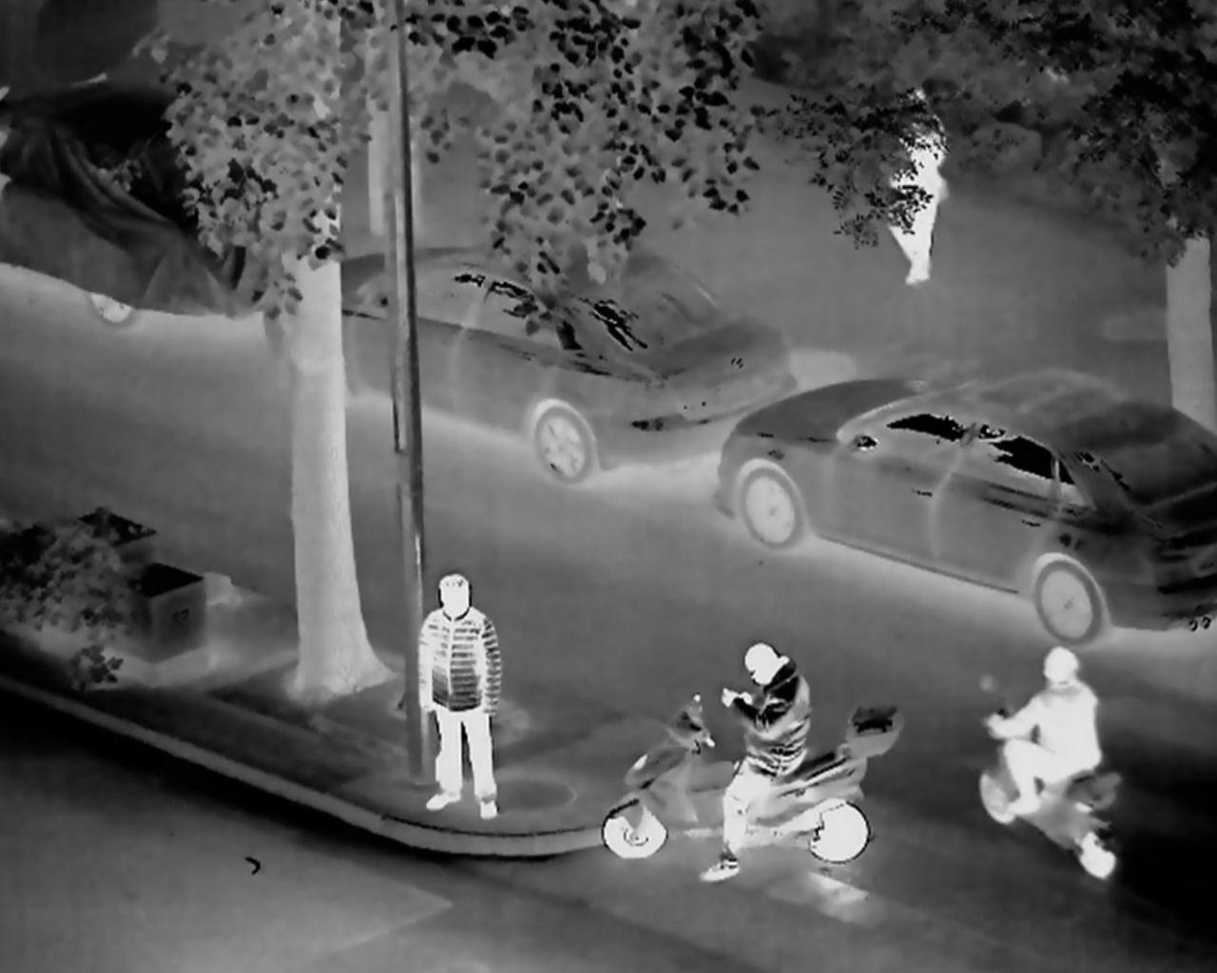person: (679, 640, 814, 887), (409, 568, 531, 826), (963, 628, 1102, 837), (854, 71, 950, 296)
